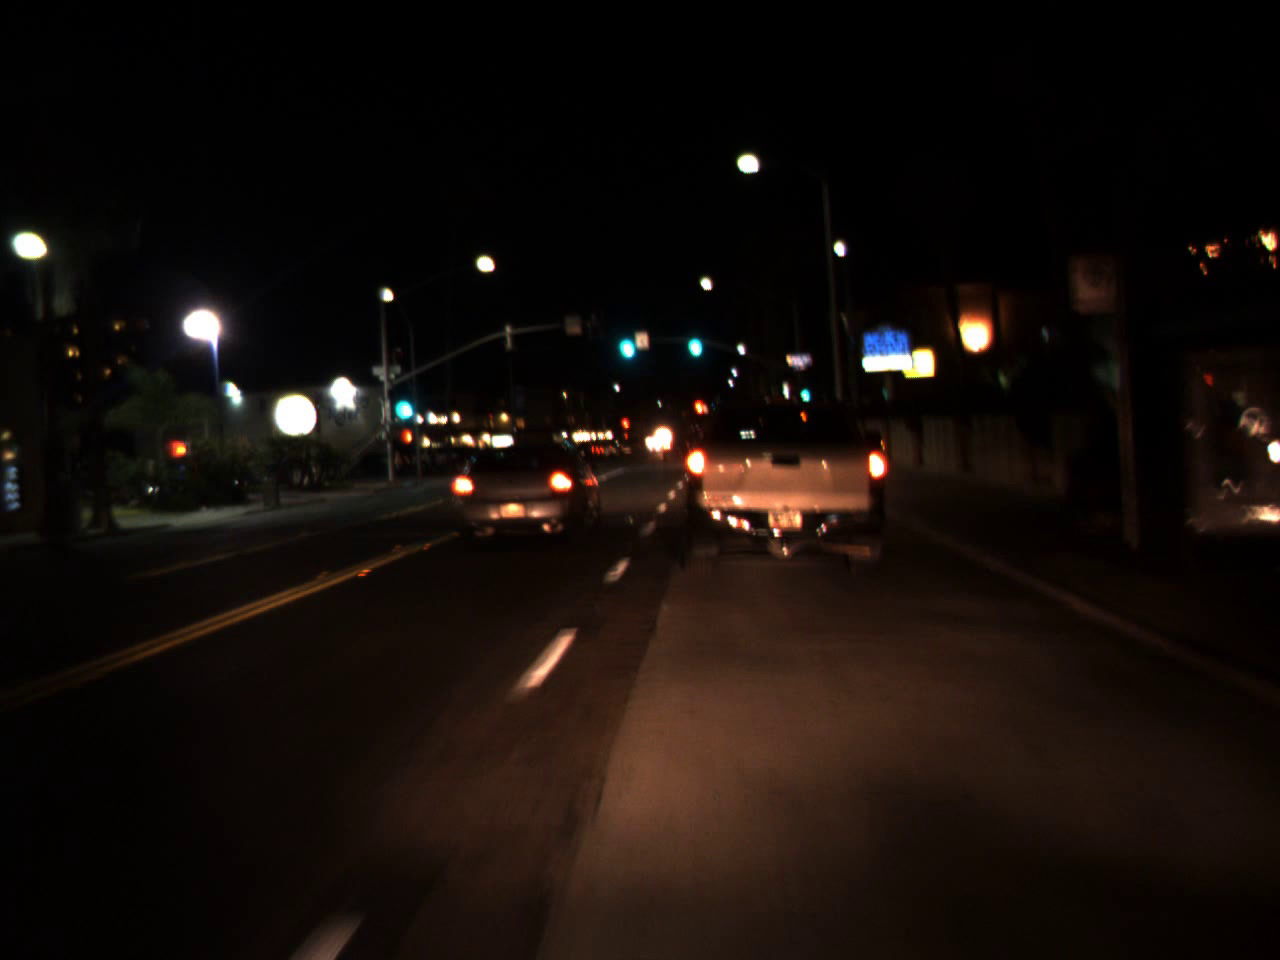go: (388, 376, 416, 427), (613, 314, 638, 365), (684, 325, 705, 355), (798, 375, 810, 405)
